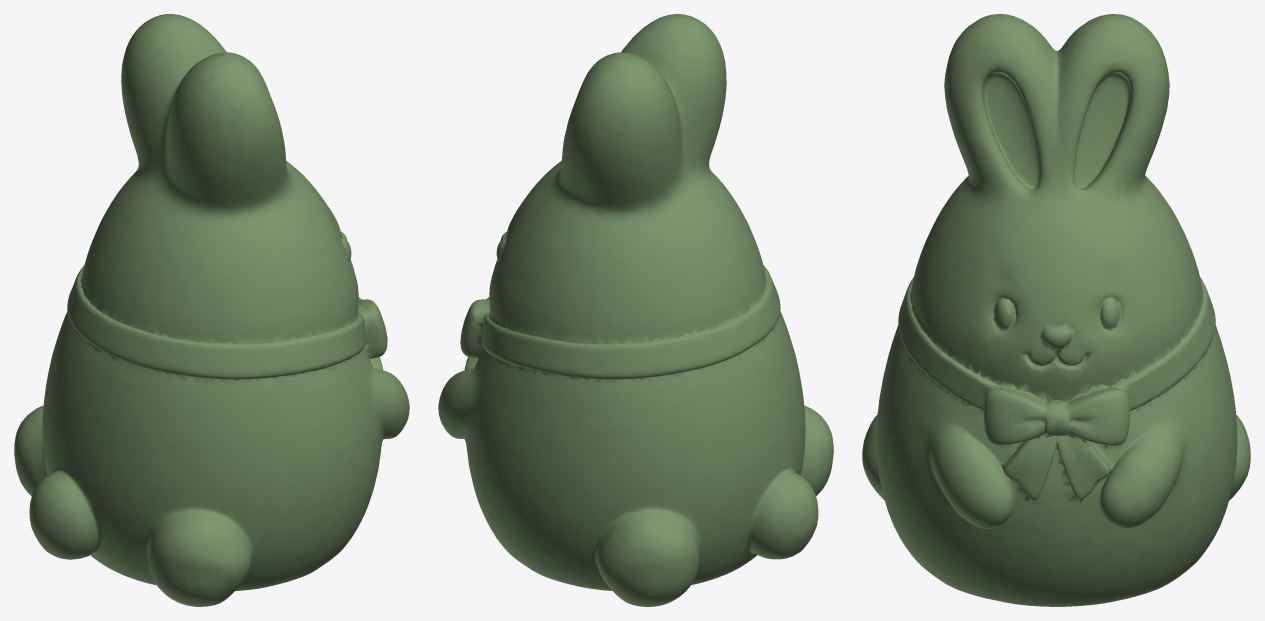
The model's file is easter-bunny.glb.
3 renders of one model, left to right at view 1: azimuth 30°, elevation 25°; view 2: azimuth 150°, elevation 25°; view 3: azimuth 270°, elevation 25°, orthographic. The views are drawn at different scales.
Parts seen in each view (by area): view 1: tripo_printable_source; view 2: tripo_printable_source; view 3: tripo_printable_source.
Part boxes in pixels (x1=…): tripo_printable_source: x1=14, y1=14, x2=409, y2=606; tripo_printable_source: x1=438, y1=14, x2=833, y2=606; tripo_printable_source: x1=862, y1=14, x2=1250, y2=606.
Size of the model in its own units: 70 by 100 by 66.55.
